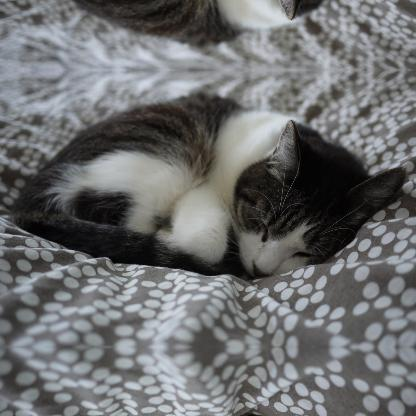Cat: (7, 84, 410, 280), (7, 0, 411, 54)
